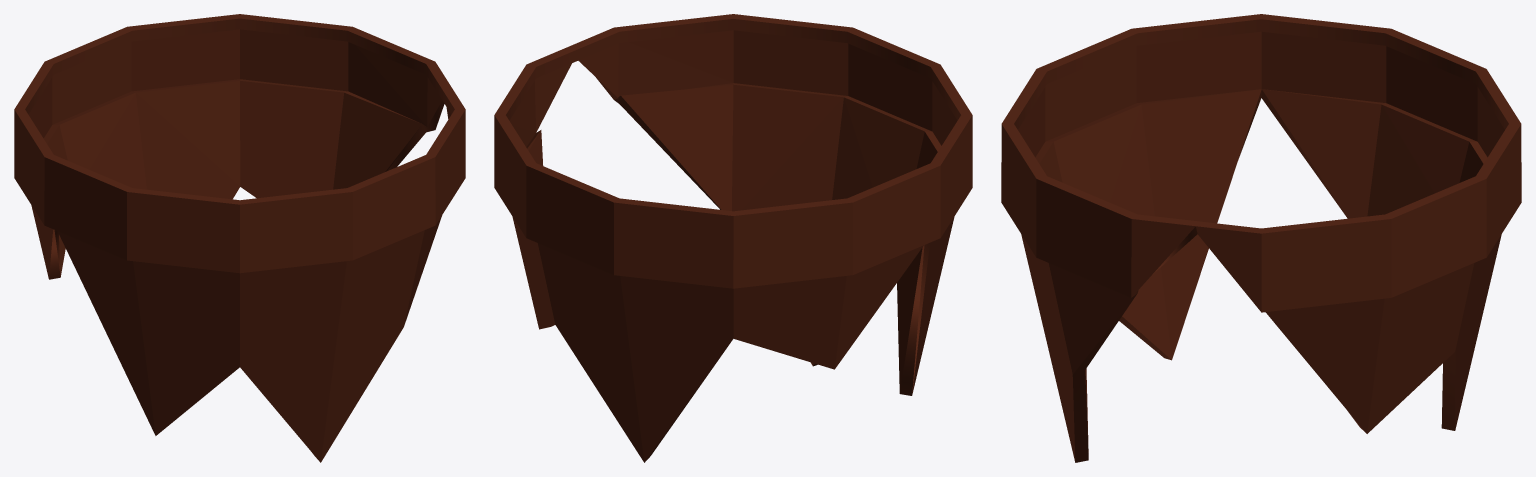
File: pot1piece2.fbx
3 renders of one model, left to right at view 1: azimuth 30°, elevation 25°; view 2: azimuth 150°, elevation 25°; view 3: azimuth 270°, elevation 25°, orthographic. The views are drawn at different scales.
Visible parts, largest first — view 1: pot1broken2; view 2: pot1broken2; view 3: pot1broken2.
Boxes of the visible parts, left/top/right/bottom form: pot1broken2: left=14, top=14, right=465, bottom=462; pot1broken2: left=494, top=14, right=972, bottom=462; pot1broken2: left=1001, top=14, right=1521, bottom=462.
Size of the model in its own units: 37.83 by 27.21 by 37.83.
